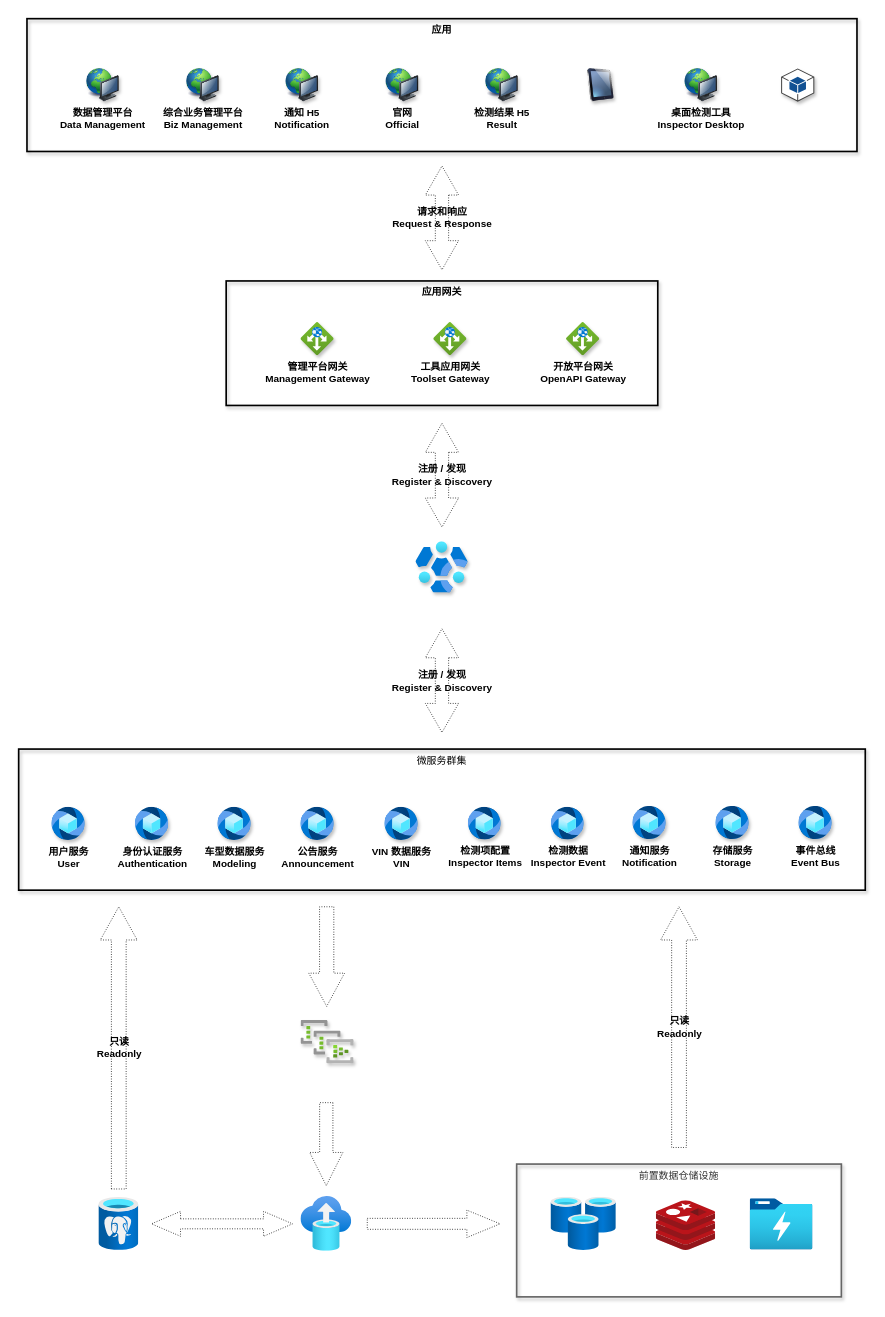
Some shapes in this 885 by 1317 pixel diagram are drawn without their labels. The centre of each missing label's shape, as x and y in pixels:
事件集线器 Event Hub: the point at 328,1043
分发到前置数据库 Wait for: the point at 433,1223
前置对象存储 Stoage: the point at 781,1223
只写 Writeonly: the point at 326,956
开放平台 SDK: the point at 798,86
服务前置数据群集 MySQL Cluster: the point at 583,1223
服务前置缓存数据群集 Redis Cluster: the point at 685,1225
服务注册发现 Consul: the point at 442,568
核心数据 Core: the point at 222,1223
核心数据仓库 PostgreSQL: the point at 118,1223
核心数据订阅分发 DEP: the point at 325,1223
移动端检测工具 Inspector: the point at 601,86
订阅 Subscription: the point at 326,1144
